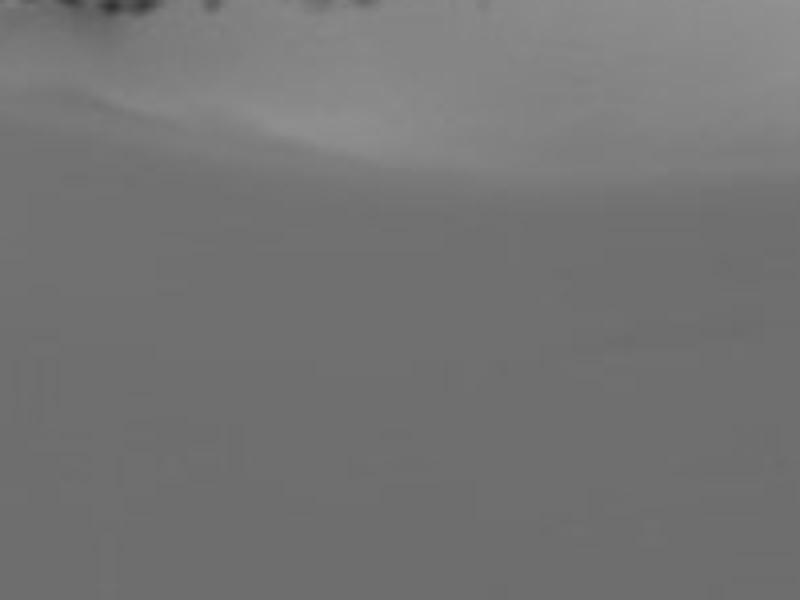defect: (137, 1, 163, 17), (200, 1, 225, 16), (104, 1, 126, 16), (47, 1, 88, 7)
